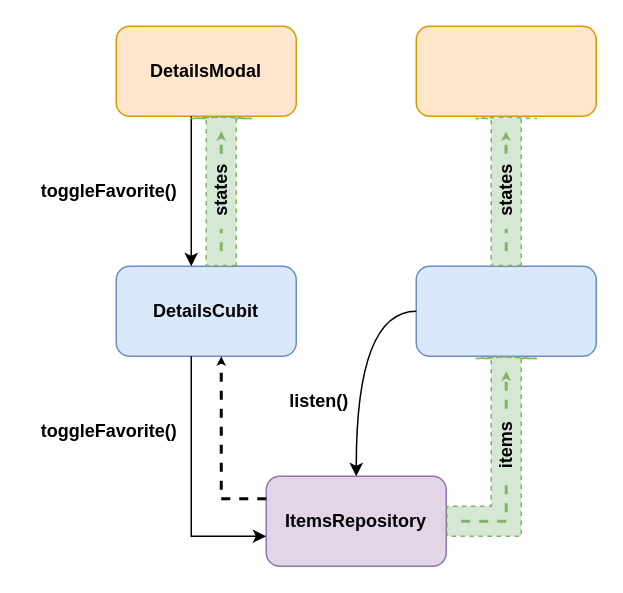
This 623x593 diagram has some shape labels left out. Here are the shapes that lost their labels. From the top down, the box of each, then its label:
(415, 25, 596, 116): ListScreen
(415, 265, 596, 356): ListCubit
